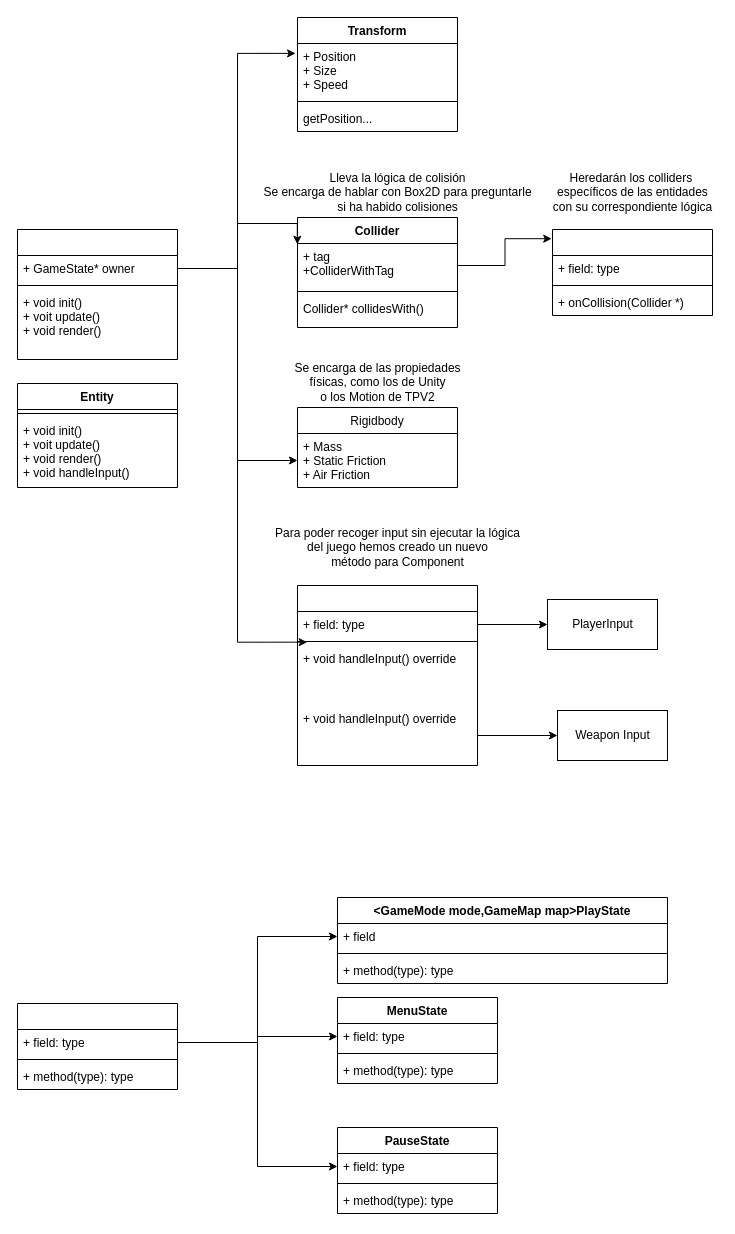
The diagram is 735 pixels wide and 1234 high, and some of its shapes have lost their labels. The shapes that lost their labels are listed below. From the top down, each one's box as (x1, y1, x2, y2) in pixels, then its label:
(552, 228, 712, 316): PlayerCollider
(16, 228, 178, 360): Component
(296, 584, 478, 766): InputHandler
(16, 1002, 178, 1090): GameState
